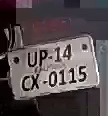0: (47, 69, 59, 88)
1: (56, 68, 69, 86), (67, 66, 78, 87), (55, 46, 62, 65)
4: (62, 43, 74, 63)
5: (76, 62, 89, 86)
C: (21, 72, 30, 92)
P: (38, 49, 46, 68)
U: (26, 51, 38, 68)
X: (30, 74, 41, 91)
